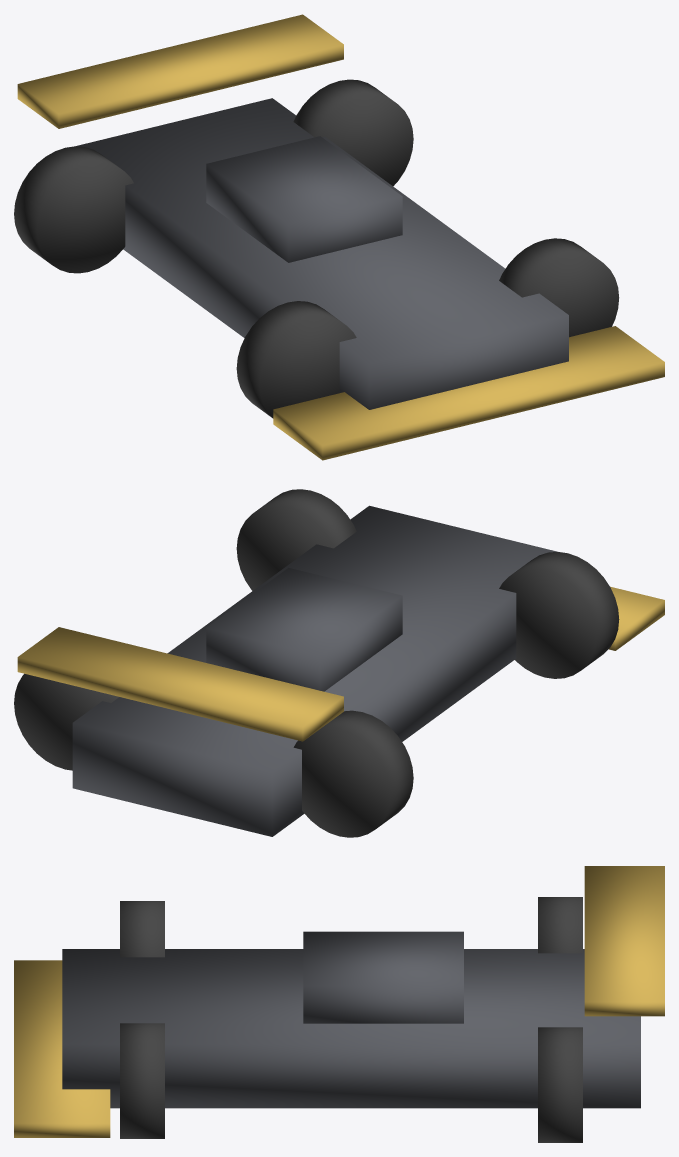
The model's file is car.glb.
The picture shows the model from 3 angles, top to bottom: view 1: azimuth 30°, elevation 25°; view 2: azimuth 150°, elevation 25°; view 3: azimuth 270°, elevation 25°; orthographic projection. The views are drawn at different scales.
Visible parts, largest first — view 1: geometry_0; view 2: geometry_0; view 3: geometry_0.
Part boxes in pixels (bbox=[...]): geometry_0: bbox=[14, 14, 664, 460]; geometry_0: bbox=[14, 489, 664, 837]; geometry_0: bbox=[14, 866, 664, 1142].
Size of the model in its own units: 1.32 by 0.475 by 2.02.
